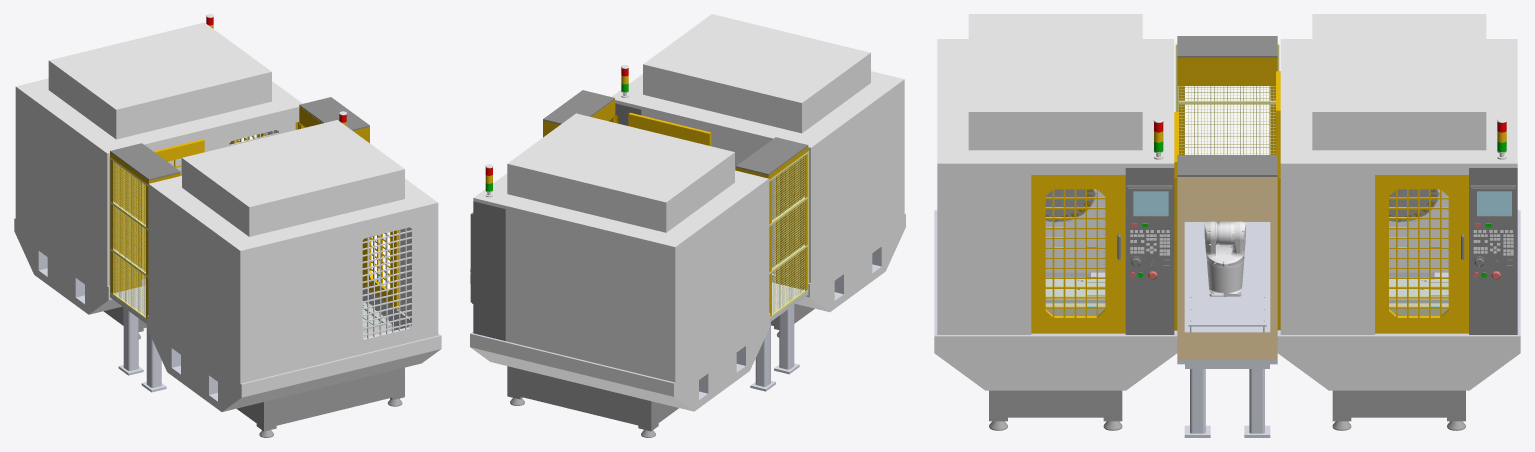
File: cnc测试.glb
The picture shows the model from 3 angles, left to right: view 1: azimuth 30°, elevation 25°; view 2: azimuth 150°, elevation 25°; view 3: azimuth 270°, elevation 25°; orthographic projection. The views are drawn at different scales.
Visible parts, largest first — view 1: 空物体; view 2: 空物体; view 3: 空物体, 空物体.001.
Part boxes in pixels (x1,y1,x2,y2): 空物体: (14,14,441,437); 空物体: (470,14,905,437); 空物体: (934,14,1520,437); 空物体.001: (1204,221,1245,296).
Size of the model in its own units: 2116 by 2208 by 3740.
